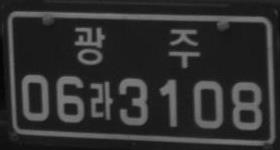0: (193, 80, 223, 128), (21, 73, 50, 121)
1: (158, 78, 184, 127)
3: (118, 77, 149, 125)
6: (55, 75, 84, 123)
8: (231, 81, 263, 129)
광주_D: (74, 26, 200, 68)
라: (91, 79, 113, 120)
